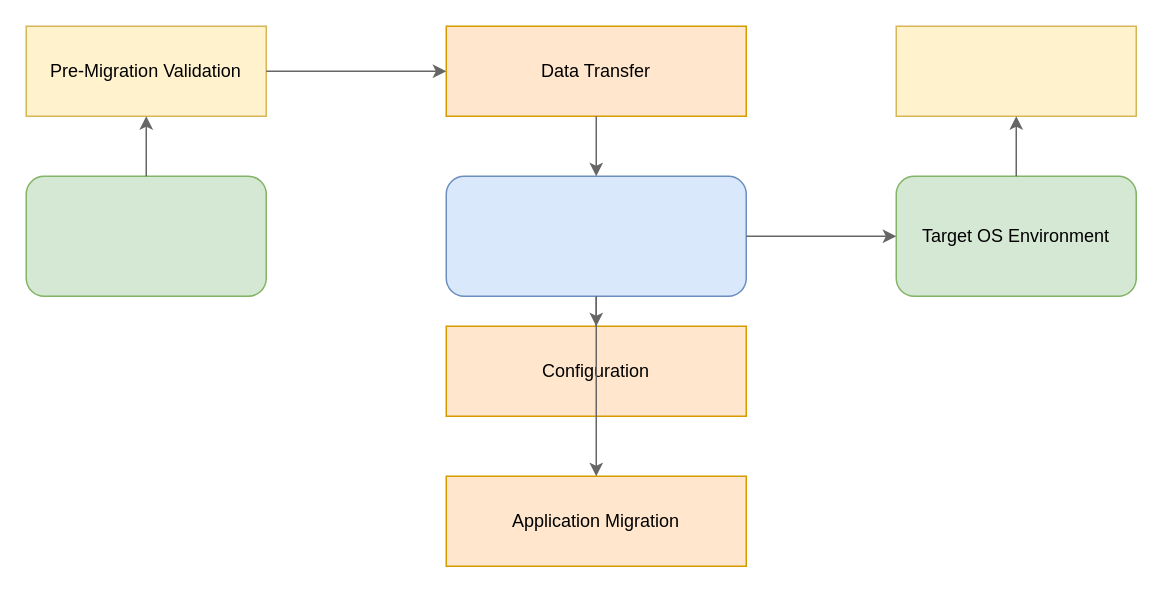
Image size: 1163x593. Some labels were removed from this diagram. The centre of each missing label's shape, as x and y in pixels:
"Post-Migration Validation" belongs at pixel 1015 70.
"RiverMeadow Migration Platform" belongs at pixel 595 235.
"Source OS Environment" belongs at pixel 145 235.
